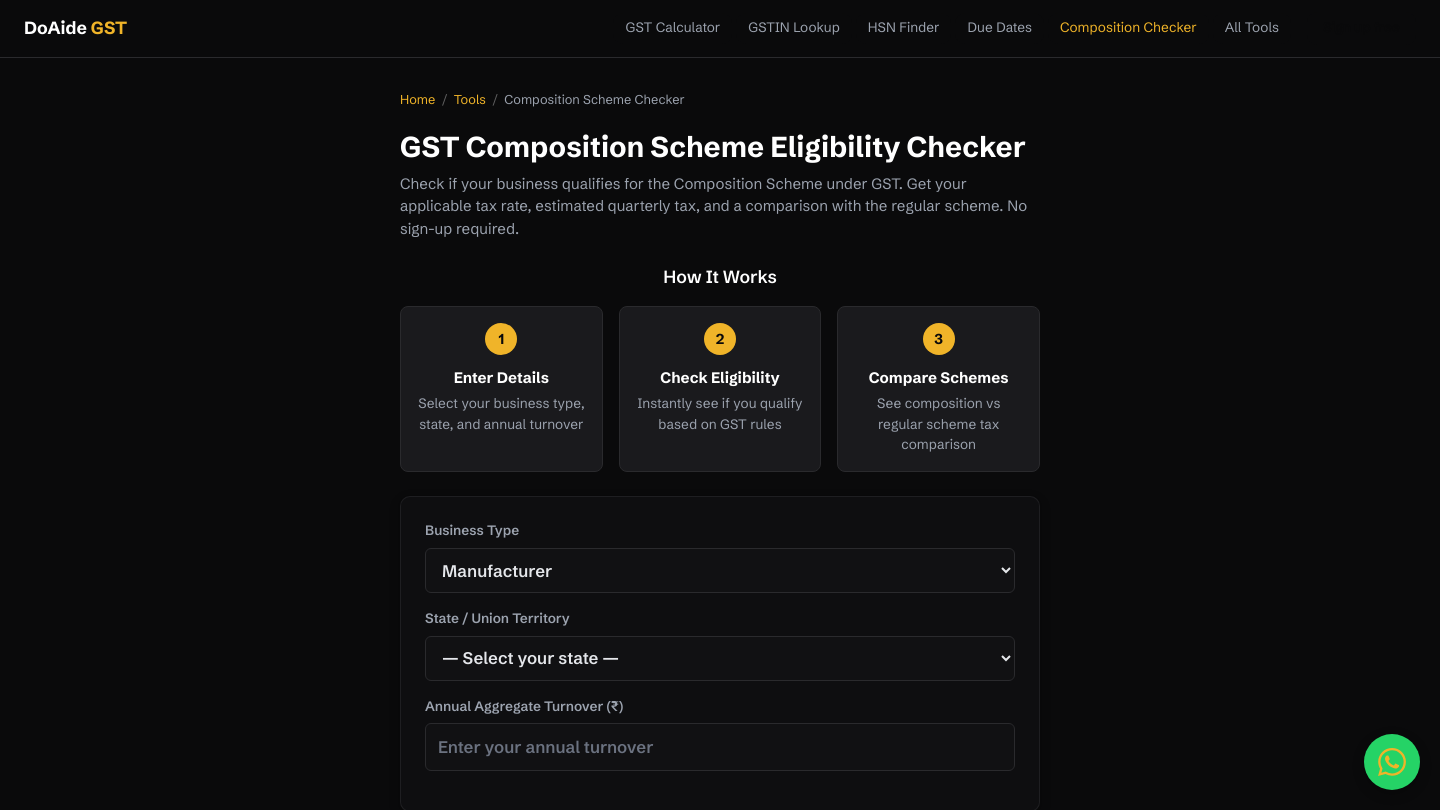
it: CompositionSchemeCheckerPage › shows eligible result for manufacturer below limit
Select "Maharashtra" in the dropdown labelled "State / Union Territory": [720, 658] box [425,636,1015,681]
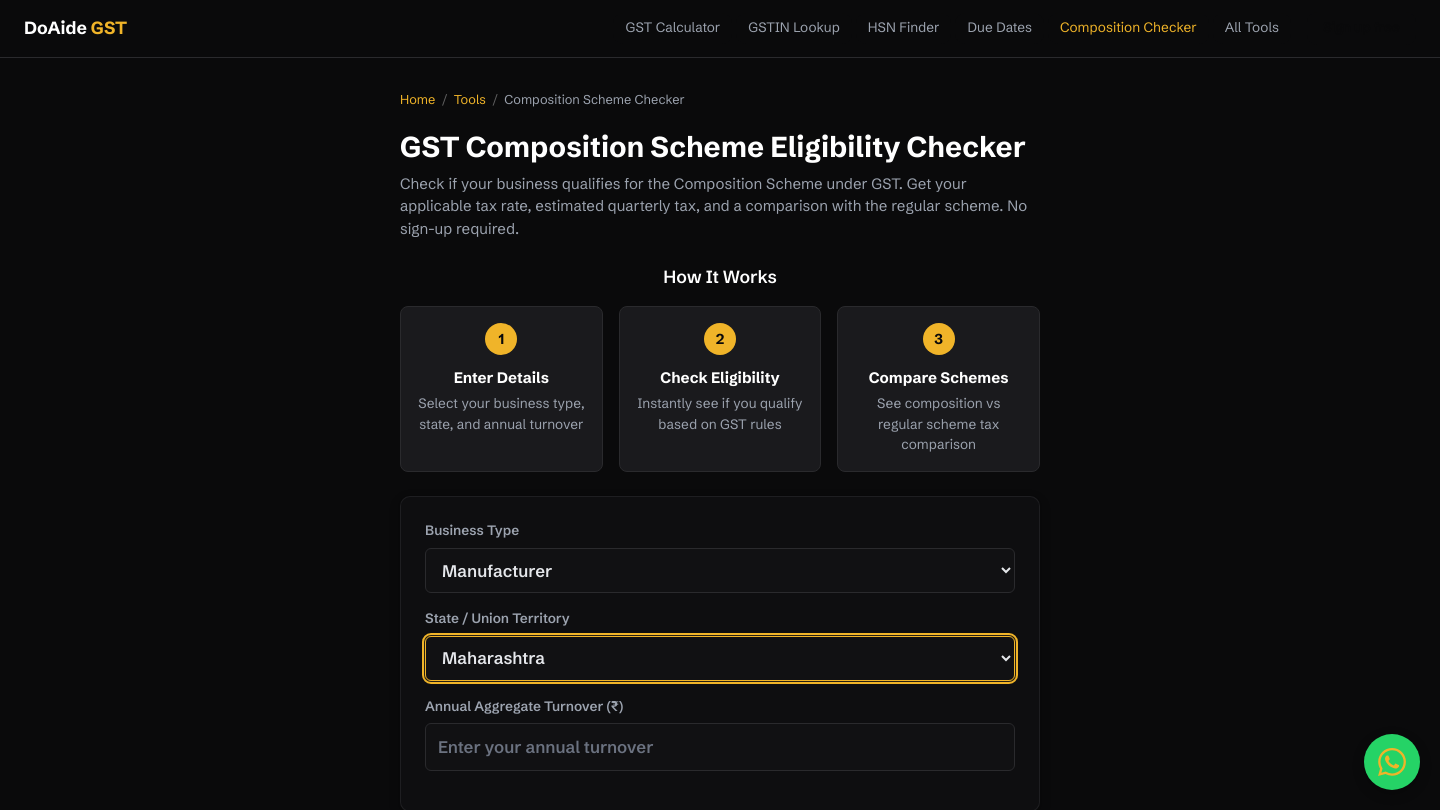
In the number field labelled "Annual Aggregate Turnover (₹)": [720, 747] box [425,723,1015,771], type "5000000"
(page scrolled)
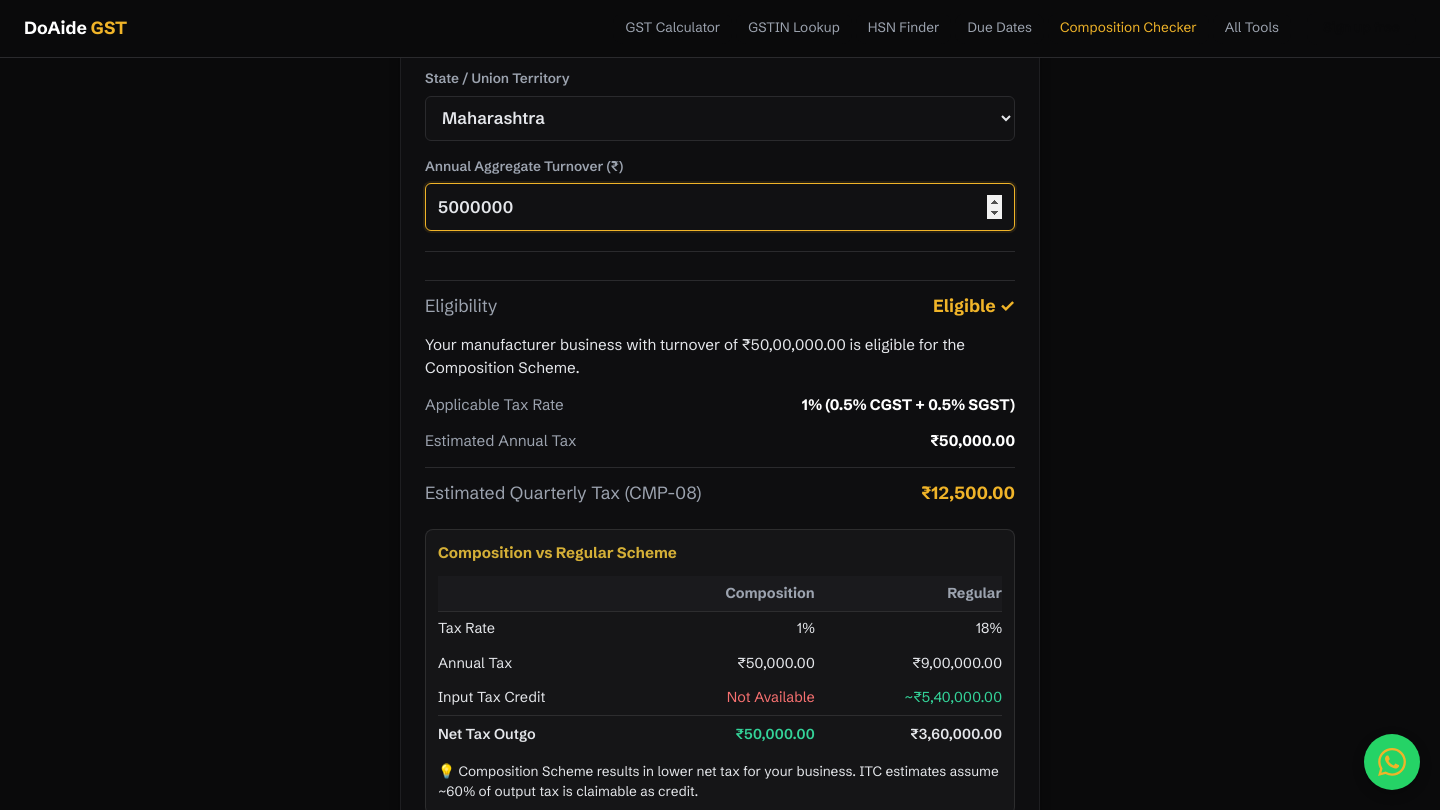
Now the text "Eligible ✓" is shown, box [933,293,1015,320]
Now the text "1% (0.5% CGST + 0.5% SGST)" is shown, box [802,394,1015,417]
